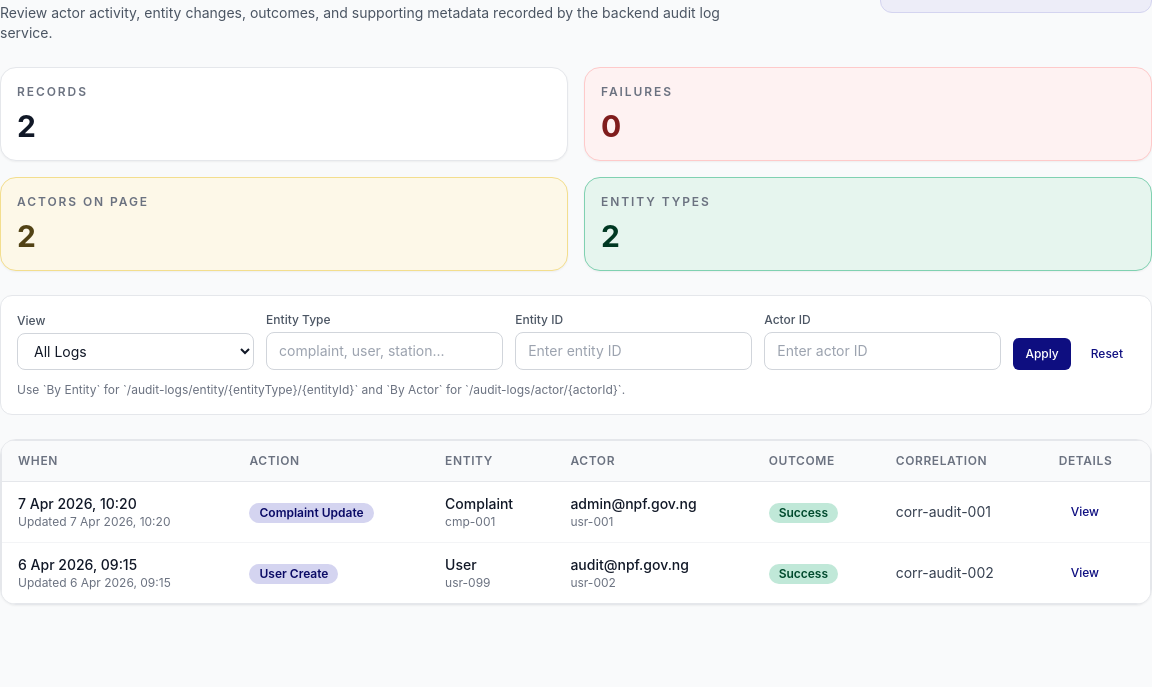
AuditTrailPage › shows expanded audit details
What coordinates should you click on to do the following:
click the button "View" in the row of "Complaint Update"
I would click on:
 (1085, 512)
Its box is x1=1059 y1=496 x2=1111 y2=528.
(page scrolled)
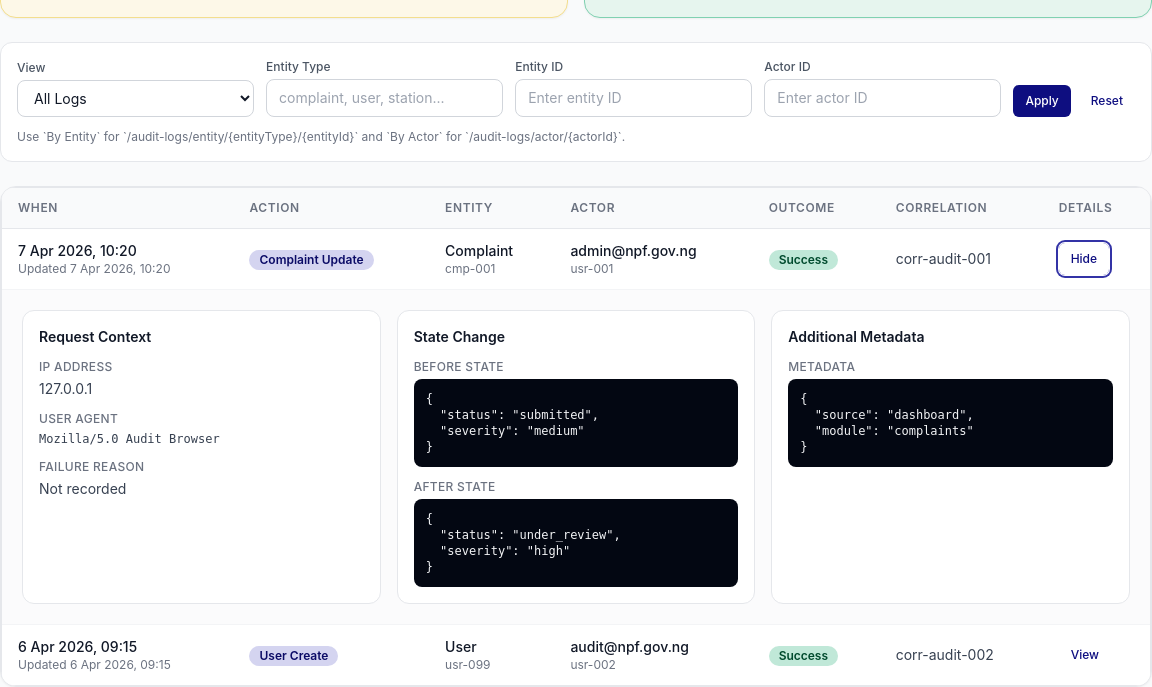
Result: the text "Before State" is shown at x1=414 y1=359 x2=504 y2=374
Result: the heading "Additional Metadata" is shown at x1=788 y1=328 x2=924 y2=345
Result: the text "Failure Reason" is shown at x1=39 y1=459 x2=144 y2=474
